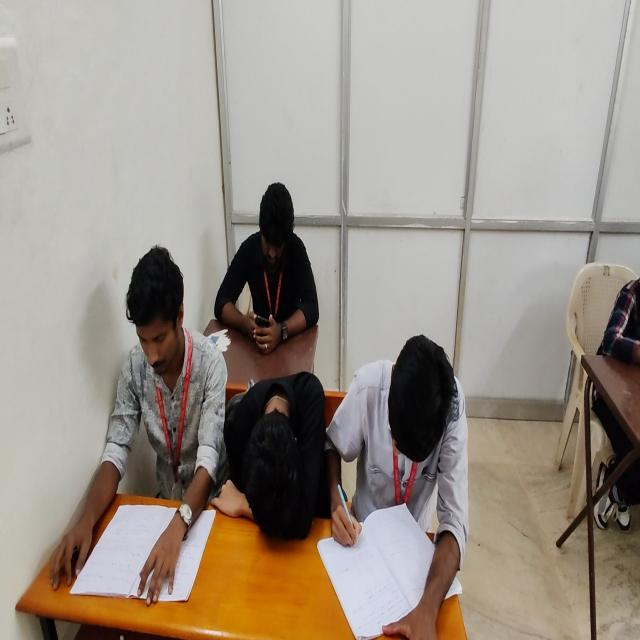reading: (50, 247, 232, 611), (323, 334, 469, 640)
sleeping: (212, 367, 331, 547)
using_mobile: (216, 182, 322, 352)
